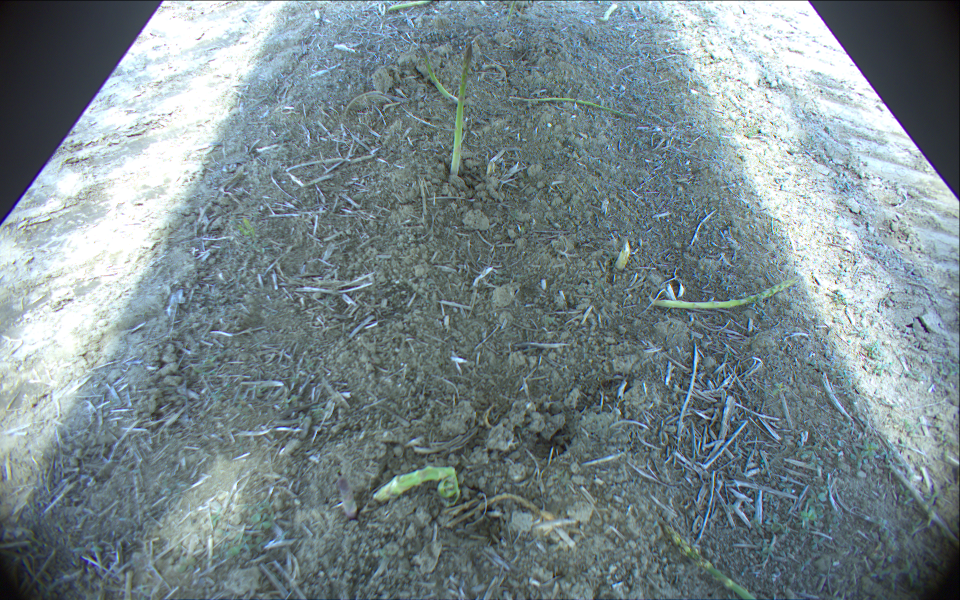aspa: (660, 519, 758, 600), (655, 273, 805, 307), (371, 464, 461, 514), (504, 94, 643, 119), (450, 42, 474, 182), (418, 42, 457, 102), (613, 238, 630, 271), (388, 1, 437, 11), (597, 3, 617, 23), (505, 1, 517, 24)
